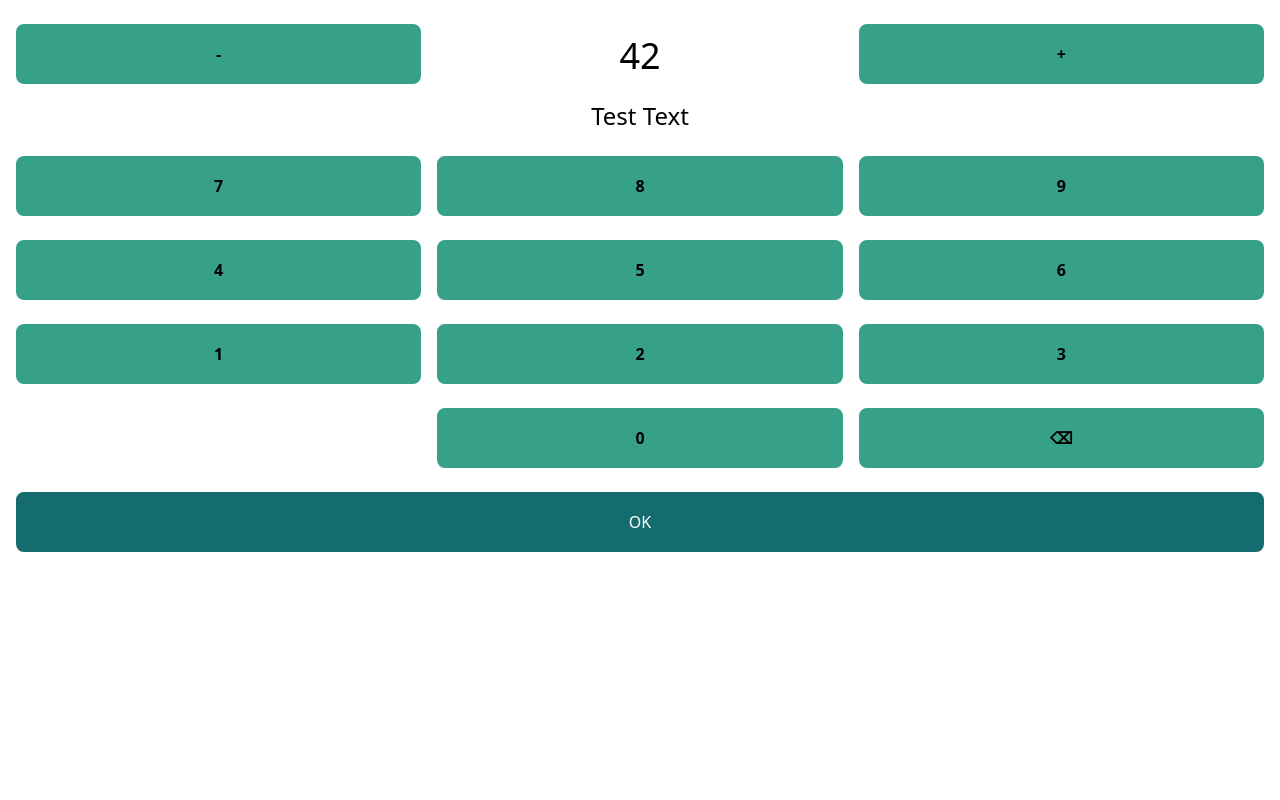
Scenario: NumPad › increases value when + button is clicked
Step 1. Click the button "+" → {"x": 1061, "y": 54}, box x1=859 y1=24 x2=1264 y2=84
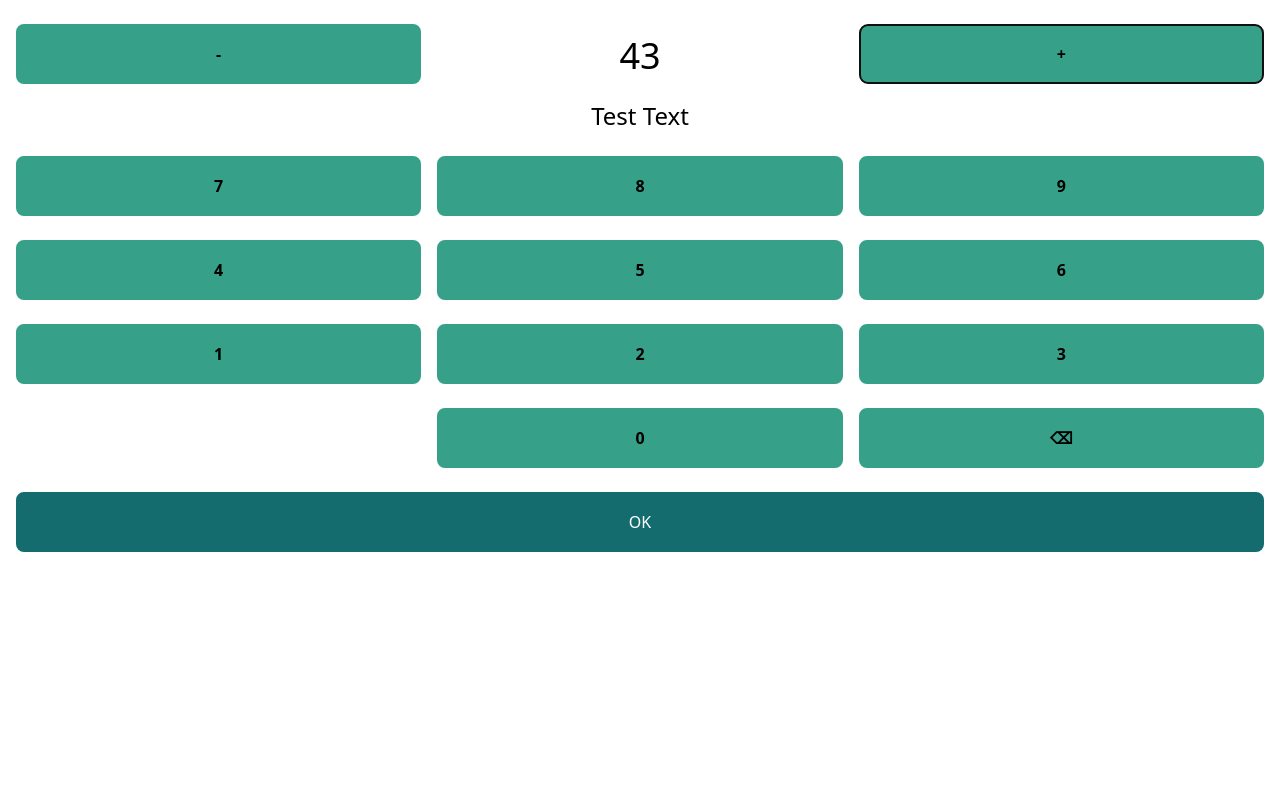
Check: the text "43" is shown, box x1=619 y1=31 x2=661 y2=80
